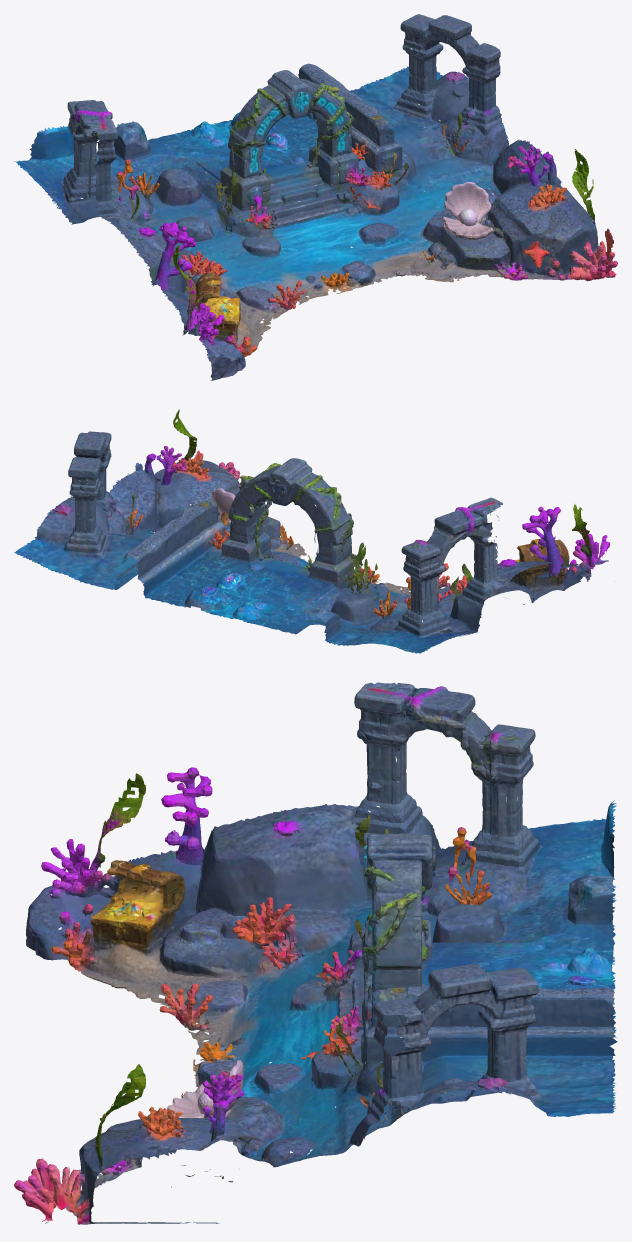
Rendered from dio_mar.glb.
The picture shows the model from 3 angles, top to bottom: view 1: azimuth 30°, elevation 25°; view 2: azimuth 150°, elevation 25°; view 3: azimuth 270°, elevation 25°; orthographic projection. The views are drawn at different scales.
Visible parts, largest first — view 1: plush; view 2: plush; view 3: plush.
Boxes of the visible parts, box(x1,y1,x2,y2) form: plush: box(14, 14, 617, 380); plush: box(14, 409, 609, 653); plush: box(14, 682, 617, 1224).
Size of the model in its own units: 0.9777 by 0.3793 by 0.8278.
1 material, 1 textured.
